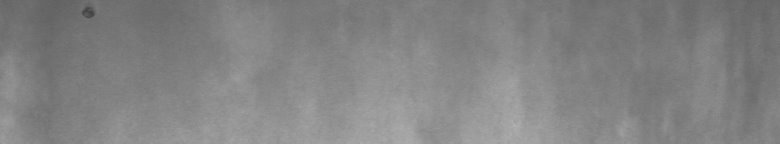fi: (79, 4, 100, 24)
